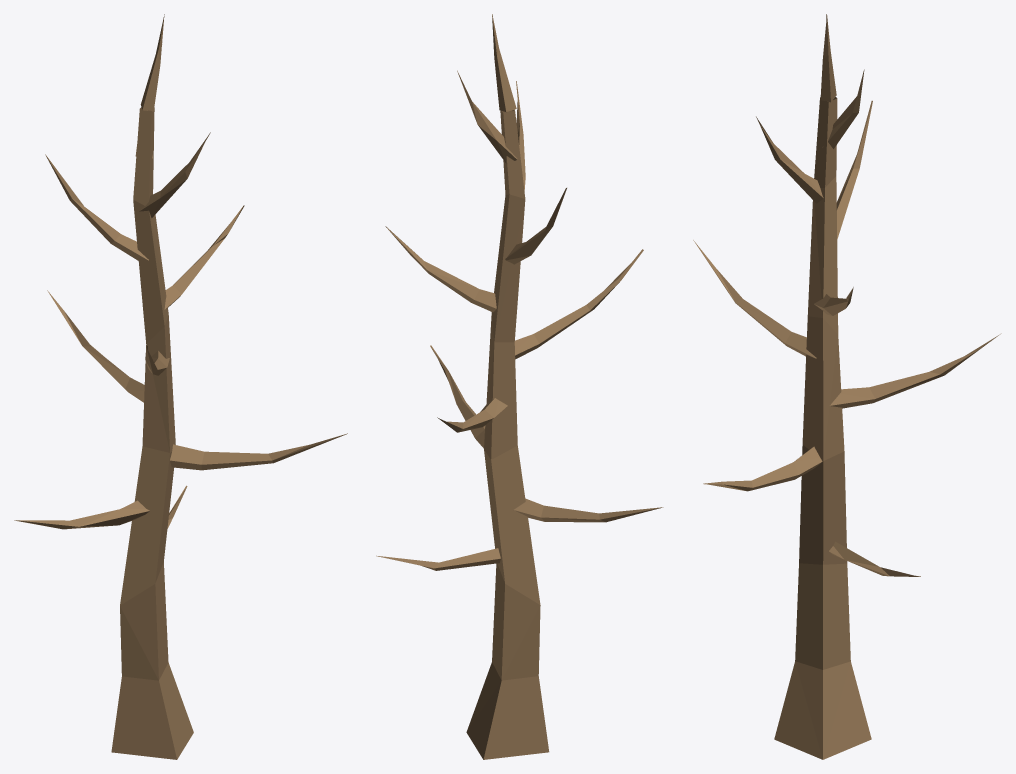
File: tree_3.glb
3 renders of one model, left to right at view 1: azimuth 30°, elevation 25°; view 2: azimuth 150°, elevation 25°; view 3: azimuth 270°, elevation 25°, orthographic.
Parts seen in each view (by area): view 1: tree3; view 2: tree3; view 3: tree3.
Part boxes in pixels (<box>): tree3: <box>14,14,347,759</box>; tree3: <box>376,14,663,759</box>; tree3: <box>693,14,1001,759</box>.
Size of the model in its own units: 1.39 by 3.4 by 1.3.
